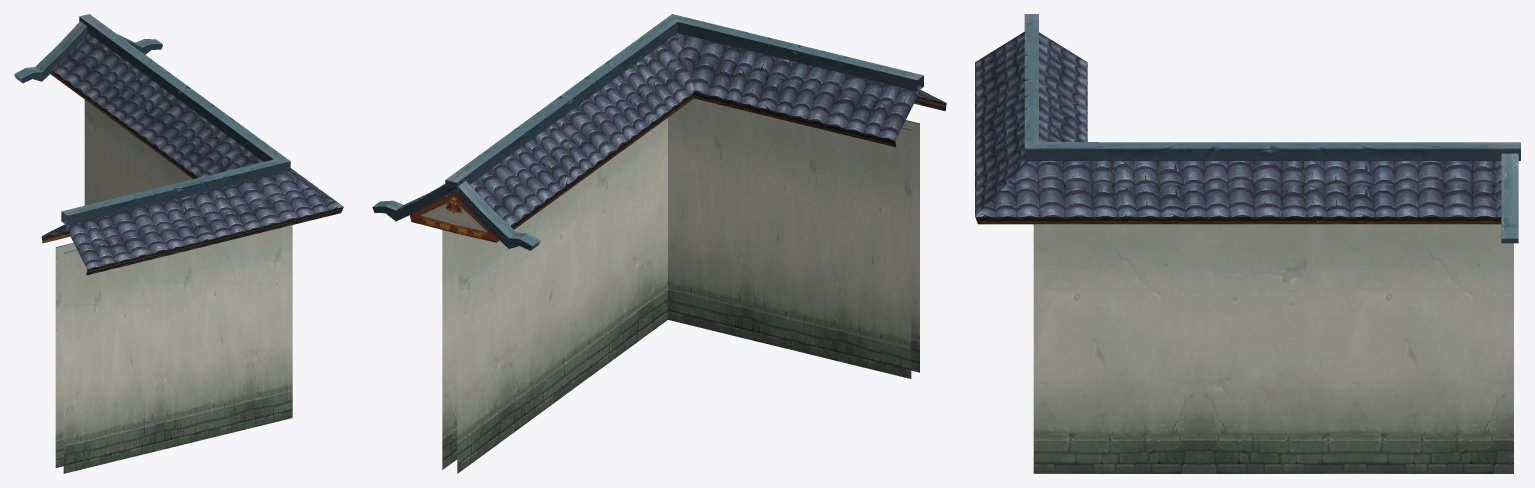
Rendered from szc_building_13a_zhuanjiao01.FBX.
The picture shows the model from 3 angles, left to right: view 1: azimuth 30°, elevation 25°; view 2: azimuth 150°, elevation 25°; view 3: azimuth 270°, elevation 25°; orthographic projection. The views are drawn at different scales.
Visible parts, largest first — view 1: szc_building_13a_zhuanjiao01; view 2: szc_building_13a_zhuanjiao01; view 3: szc_building_13a_zhuanjiao01.
Boxes of the visible parts, x1=… form: szc_building_13a_zhuanjiao01: x1=14, y1=14, x2=343, y2=473; szc_building_13a_zhuanjiao01: x1=372, y1=14, x2=946, y2=473; szc_building_13a_zhuanjiao01: x1=975, y1=14, x2=1520, y2=473.
Size of the model in its own units: 3.78 by 3.26 by 5.
